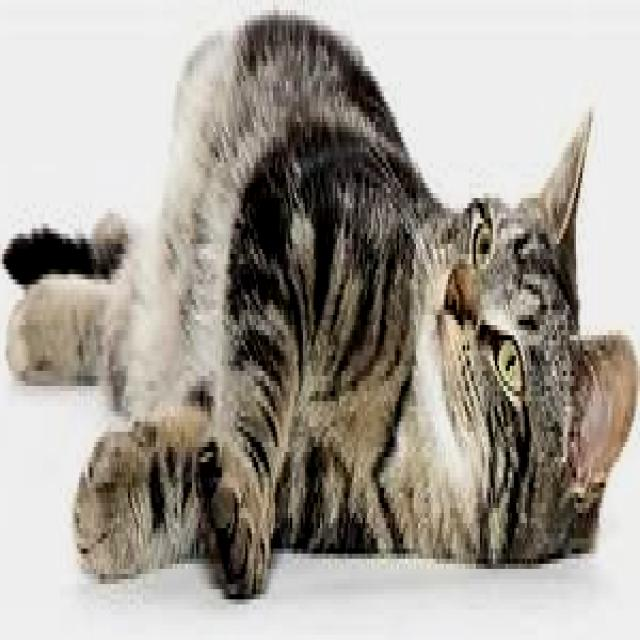KEDI: (9, 5, 640, 589)
